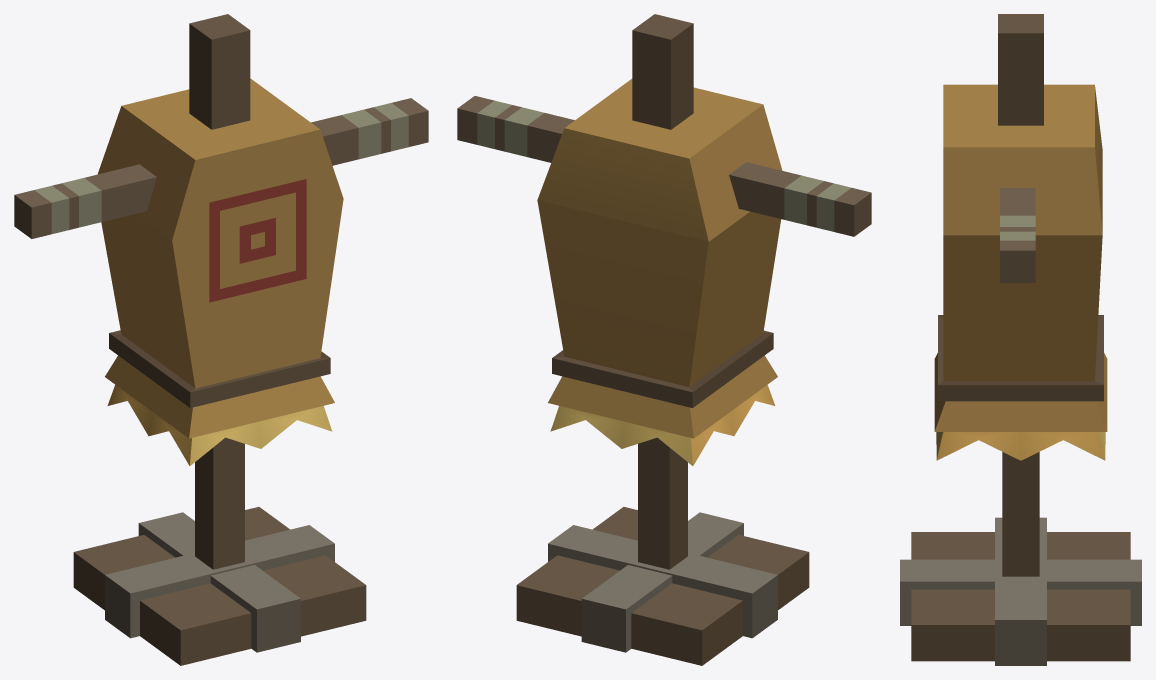
The model's file is TrainingDummy.gltf.
3 renders of one model, left to right at view 1: azimuth 30°, elevation 25°; view 2: azimuth 150°, elevation 25°; view 3: azimuth 270°, elevation 25°, orthographic. The views are drawn at different scales.
Visible parts, largest first — view 1: SF_Prop_TrainingDummy_01; view 2: SF_Prop_TrainingDummy_01; view 3: SF_Prop_TrainingDummy_01.
Boxes of the visible parts, box(x1,y1,x2,y2) form: SF_Prop_TrainingDummy_01: box(14, 14, 428, 665); SF_Prop_TrainingDummy_01: box(457, 14, 871, 665); SF_Prop_TrainingDummy_01: box(900, 14, 1141, 665).
Bounding box in the file's own units: 0.0214 × 0.0297 × 0.011.
1 material, 1 textured.
